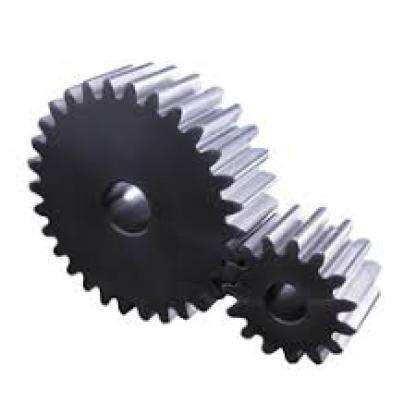FOD: (17, 49, 266, 332), (223, 207, 389, 368)
